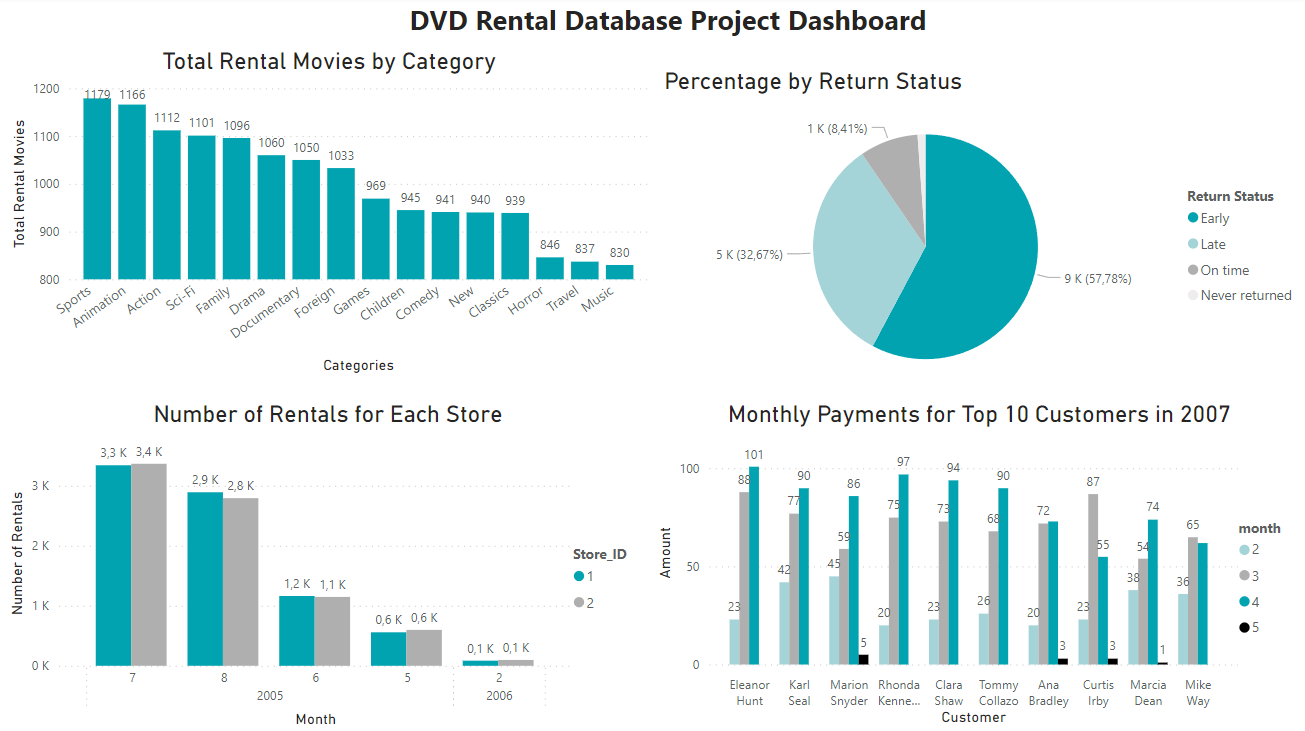

Layout of this report page (visuals, bound fields, positions):
{"tool":"powerbi","page":{"name":"Página 1","canvas":[1280,720],"ordinal":0},"visuals":[{"type":"clusteredColumnChart","title":"Total Rental Movies by Category","fields":{"Category":["public query_11.category"],"Y":["public query_11.count_rentals"]},"box":[7.3,50.1,633.2,323.9],"z":0},{"type":"pieChart","title":"Percentage by Return Status","fields":{"Category":["public query_10.return_status"],"Y":["public query_10.count"]},"box":[646.7,69.7,633.2,325.2],"z":1000},{"type":"clusteredColumnChart","title":"Number of Rentals for Each Store","fields":{"Category":["public query_13.year","public query_13.month"],"Y":["public query_13.count_rentals"],"Series":["public query_13.store_id"]},"box":[6.1,394.8,633.2,325.2],"z":2000},{"type":"clusteredColumnChart","title":"Monthly Payments for Top 10 Customers in 2007","fields":{"Category":["public query_14.full_name"],"Y":["public query_14.sum"],"Series":["public query_14.month"]},"box":[639.3,394.8,640.5,323.9],"z":3000},{"type":"textbox","box":[396.1,0,525.6,50.1],"z":4000}]}

Visuals, with their boxes in screenshot pixels (x1, y1, x2, y2), scaled from the page's 1280x720 canvas onto the 1305x731 screenshot:
"Total Rental Movies by Category" clusteredColumnChart: (left=7, top=51, right=653, bottom=380)
"Percentage by Return Status" pieChart: (left=659, top=71, right=1304, bottom=401)
"Number of Rentals for Each Store" clusteredColumnChart: (left=6, top=401, right=652, bottom=730)
"Monthly Payments for Top 10 Customers in 2007" clusteredColumnChart: (left=652, top=401, right=1304, bottom=730)
textbox: (left=404, top=0, right=940, bottom=51)
